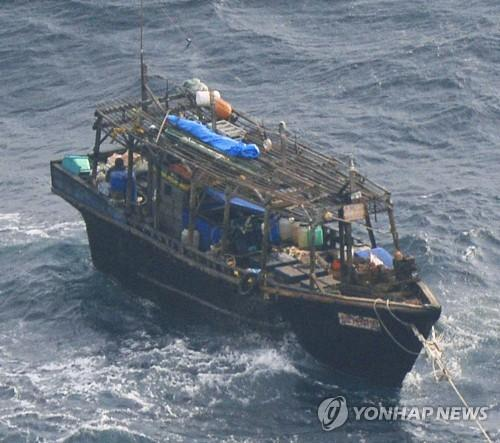Ship: (41, 49, 447, 394)
